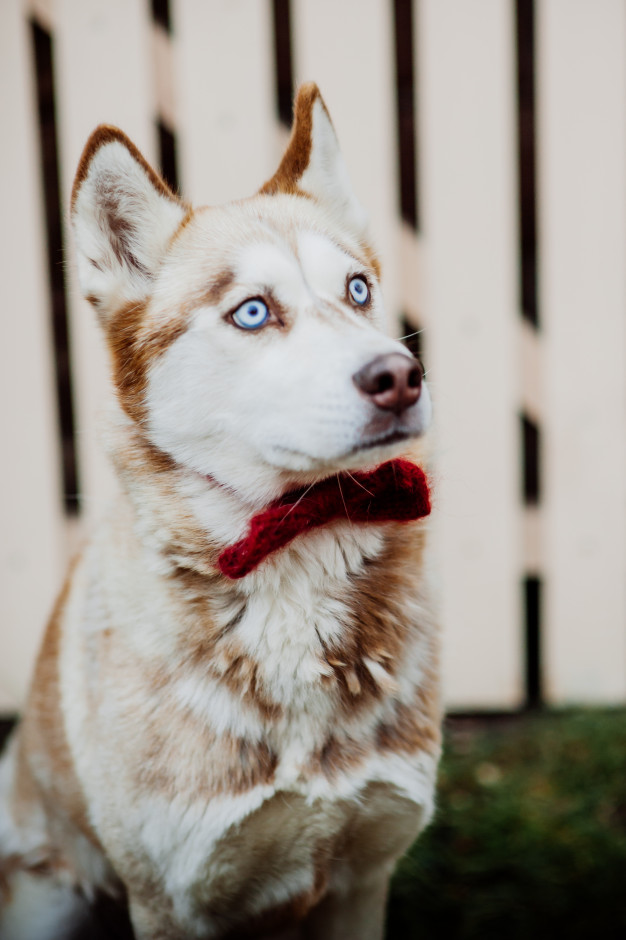husky: (10, 61, 432, 940)
